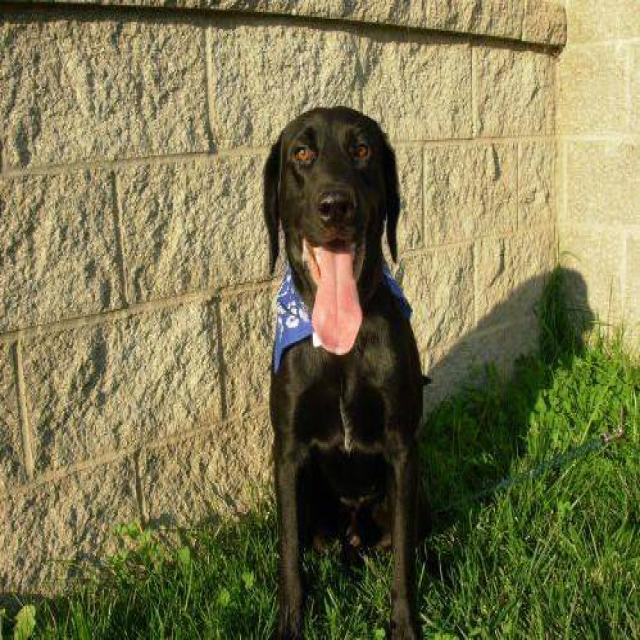dog: (260, 104, 431, 638)
